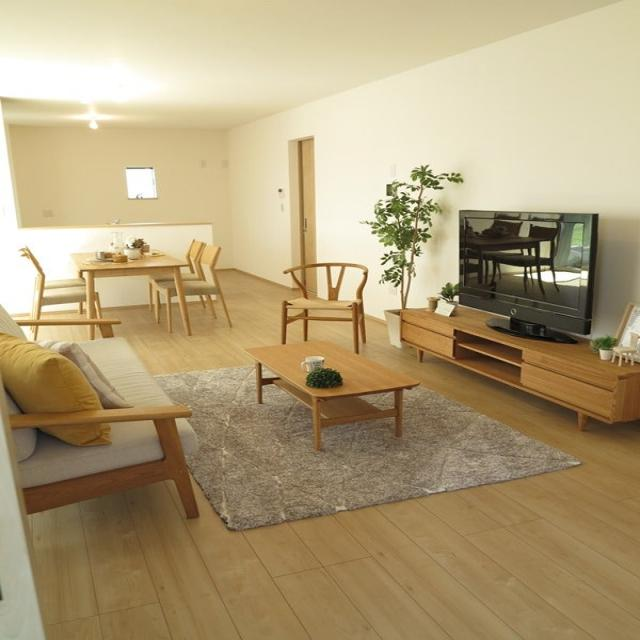natural chair: (284, 254, 374, 344), (17, 240, 102, 334), (148, 245, 239, 322)
natural desk: (242, 339, 408, 449), (62, 246, 202, 340)
natural sofa: (0, 318, 215, 530)
